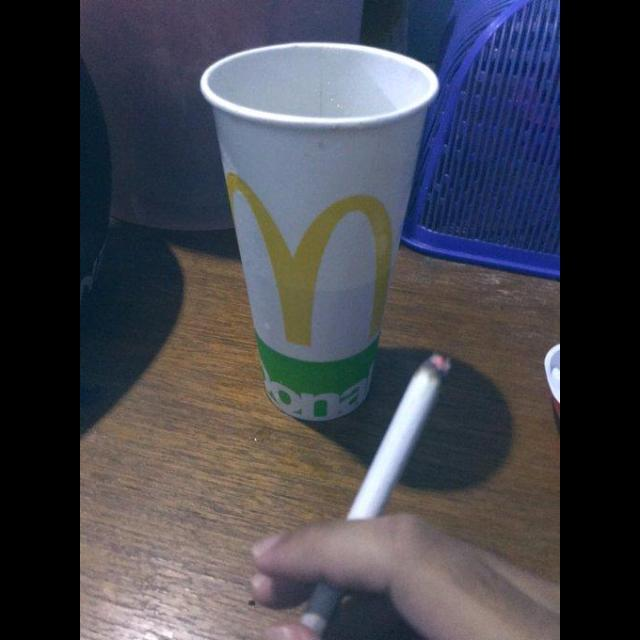rokok: (290, 348, 452, 640)
